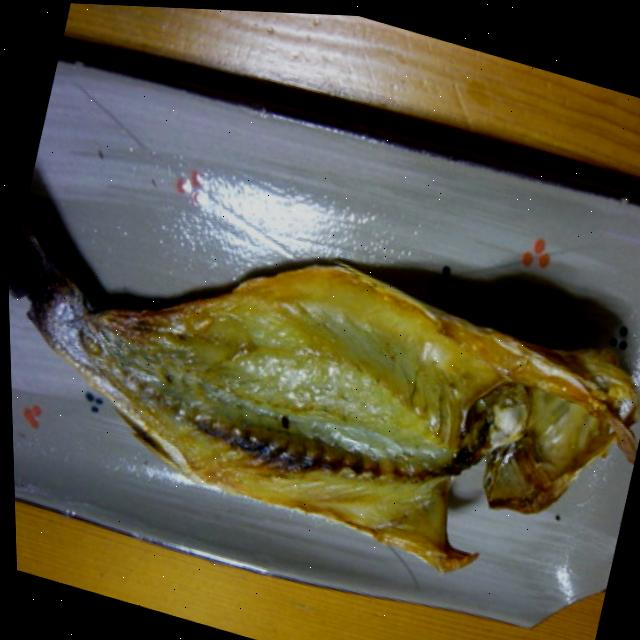熟制海鲜: (4, 171, 640, 606)
